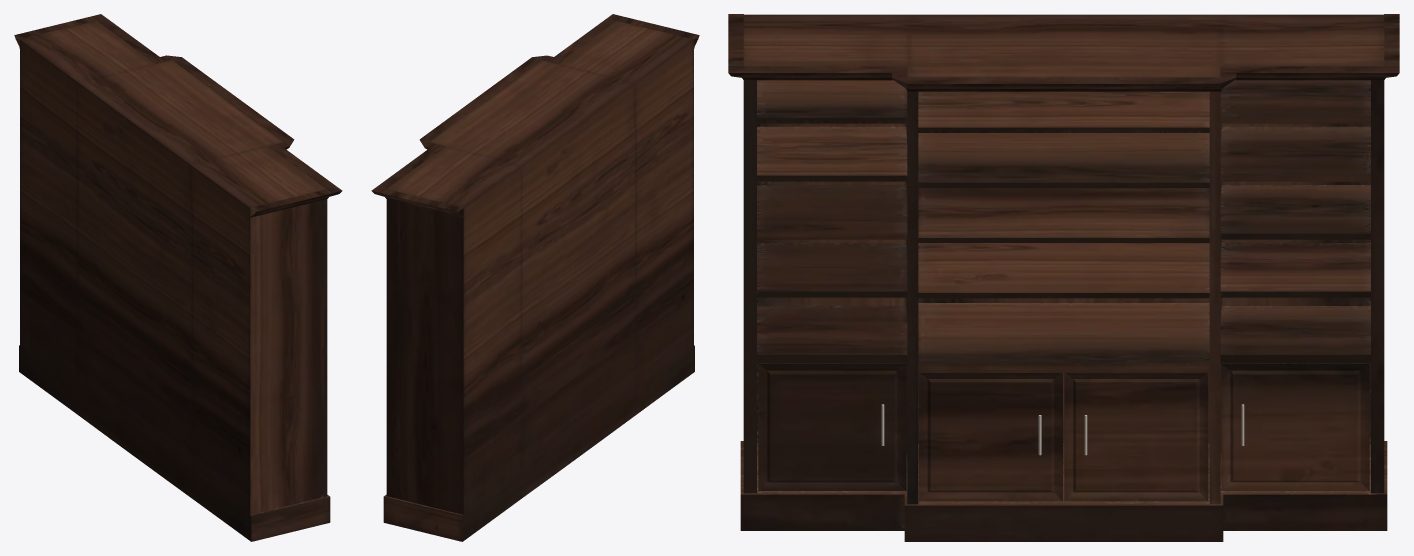
File: coti_chocolate_beech_bookshelf__f.glb
The picture shows the model from 3 angles, left to right: view 1: azimuth 30°, elevation 25°; view 2: azimuth 150°, elevation 25°; view 3: azimuth 270°, elevation 25°; orthographic projection. The views are drawn at different scales.
Parts seen in each view (by area): view 1: Cylinder_Misc_0; view 2: Cylinder_Misc_0; view 3: Cylinder_Misc_0.
Boxes of the visible parts, x1,y1,x2,y2 form: Cylinder_Misc_0: (14,14,342,541); Cylinder_Misc_0: (371,14,699,541); Cylinder_Misc_0: (728,14,1399,541).
Size of the model in its own units: 0.0988 by 0.3045 by 0.4.
Materials: 2 (2 with a texture image).
